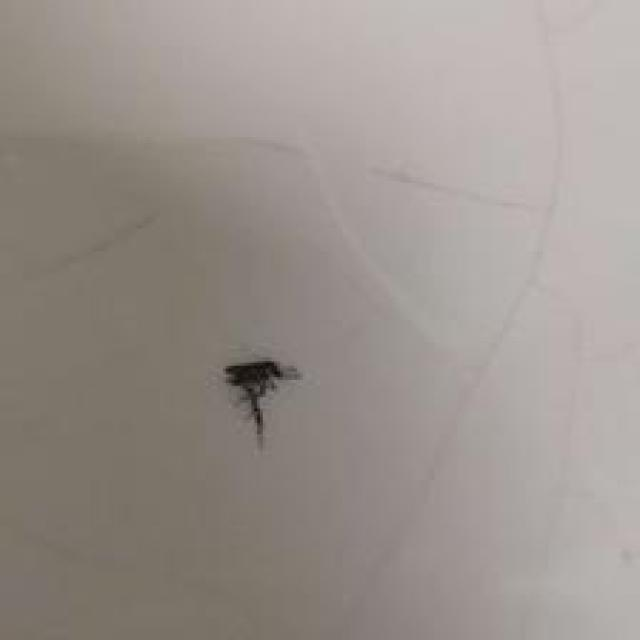Aedes albopictus: (222, 357, 302, 452)
